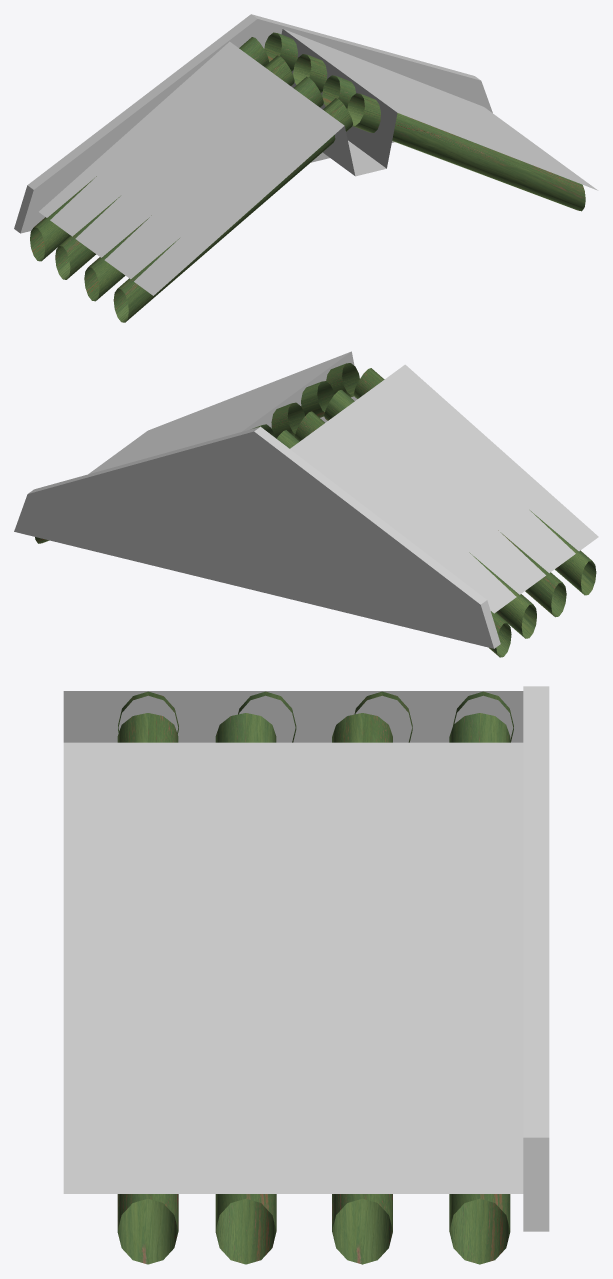
Rendered from SM_Giwa01B_b1.fbx.
3 renders of one model, top to bottom at view 1: azimuth 30°, elevation 25°; view 2: azimuth 150°, elevation 25°; view 3: azimuth 270°, elevation 25°, orthographic. The views are drawn at different scales.
Visible parts, largest first — view 1: SM_Giwa01B_b1; view 2: SM_Giwa01B_b1; view 3: SM_Giwa01B_b1.
Boxes of the visible parts, x1,y1,x2,y2 form: SM_Giwa01B_b1: (14,14,598,322); SM_Giwa01B_b1: (14,351,598,657); SM_Giwa01B_b1: (63,686,549,1264).
Size of the model in its own units: 257 by 114 by 92.43.
